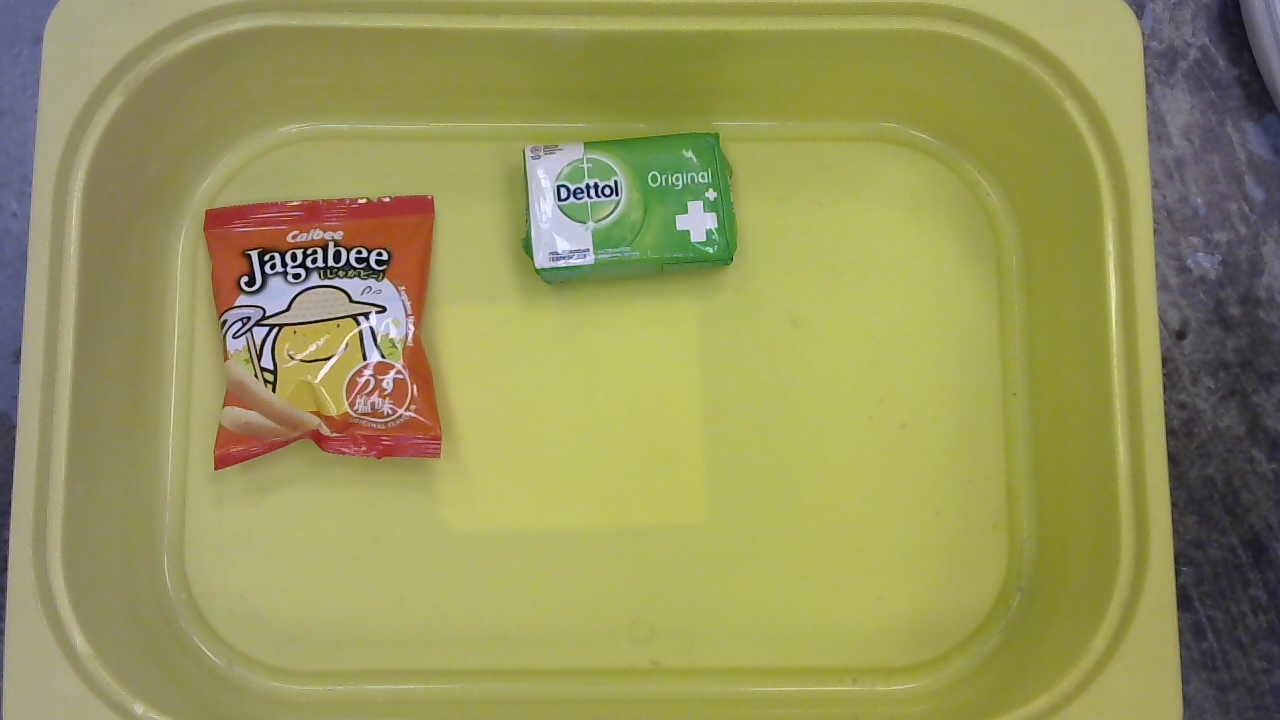Dettol: (513, 126, 749, 285)
JagabeeFarmer: (192, 188, 457, 475)
